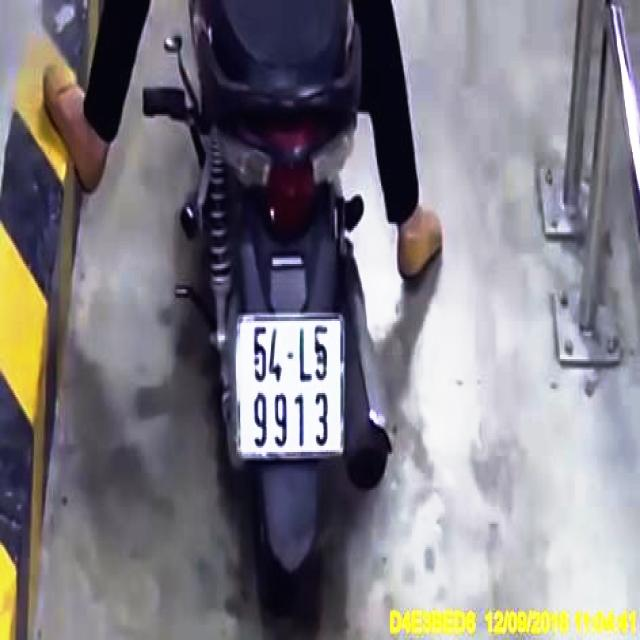license_plate: (238, 317, 344, 456)
